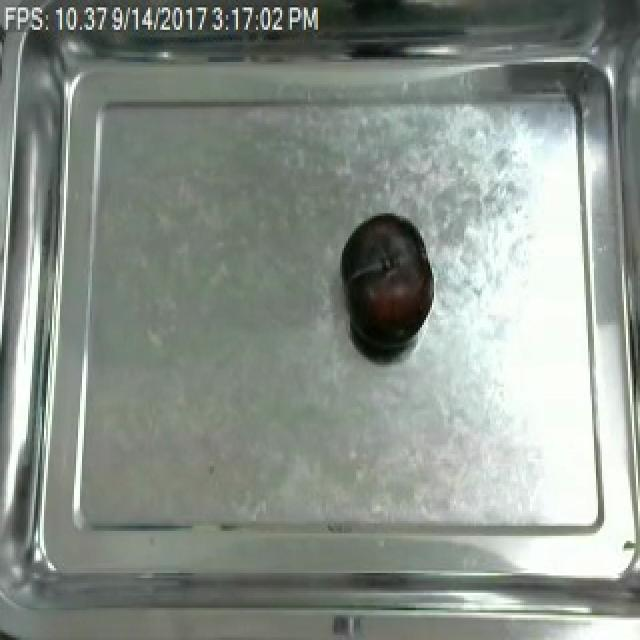Fruit: (336, 208, 436, 358)
